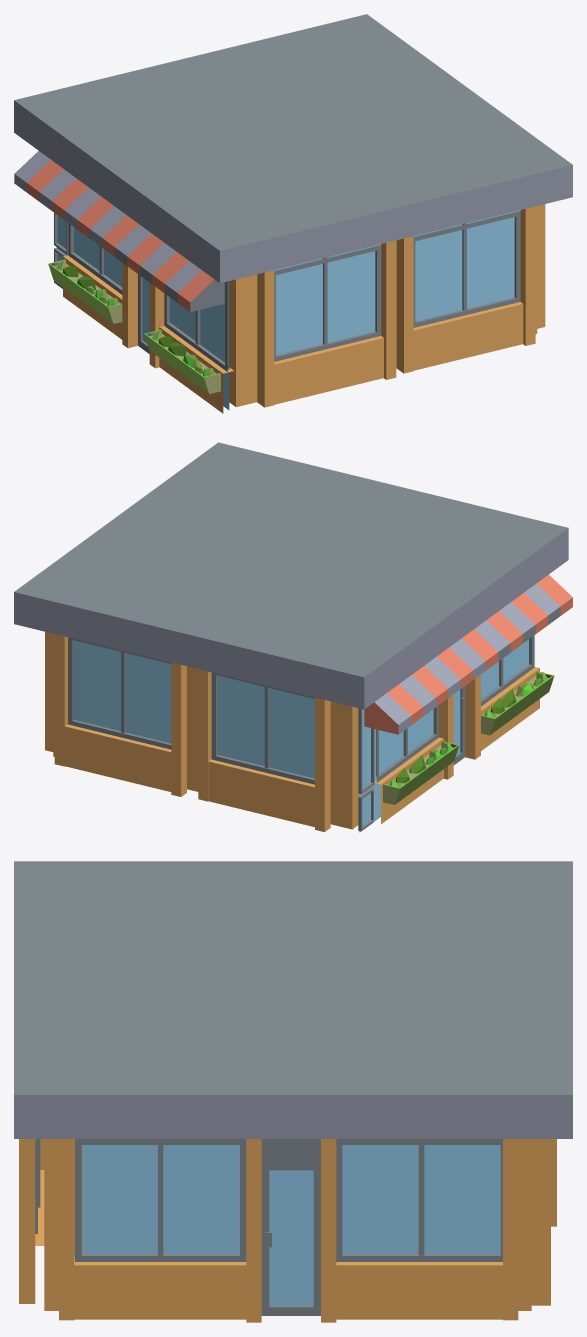
Rendered from putong_xiaoxing02.fbx.
The picture shows the model from 3 angles, top to bottom: view 1: azimuth 30°, elevation 25°; view 2: azimuth 150°, elevation 25°; view 3: azimuth 270°, elevation 25°; orthographic projection. The views are drawn at different scales.
Parts seen in each view (by area): view 1: putong_xiaoxing02; view 2: putong_xiaoxing02; view 3: putong_xiaoxing02.
Boxes of the visible parts, bbox=[...] form: putong_xiaoxing02: bbox=[14, 14, 572, 413]; putong_xiaoxing02: bbox=[14, 442, 572, 832]; putong_xiaoxing02: bbox=[14, 861, 572, 1322].
Bounding box in the file's own units: 5.34 × 2.43 × 5.15.
